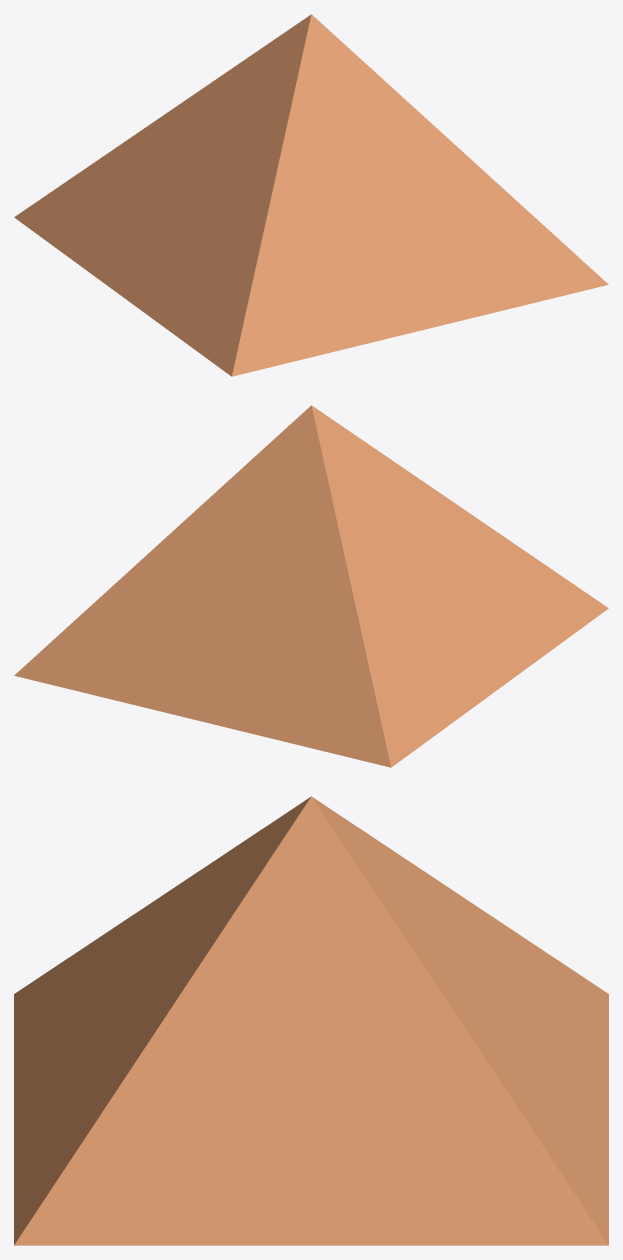
Rendered from example.gltf.
3 views of the same model, one above another, from view 1: azimuth 30°, elevation 25°; view 2: azimuth 150°, elevation 25°; view 3: azimuth 270°, elevation 25° (orthographic). The views are drawn at different scales.
Bounding box in the file's own units: 200 × 120 × 200.
